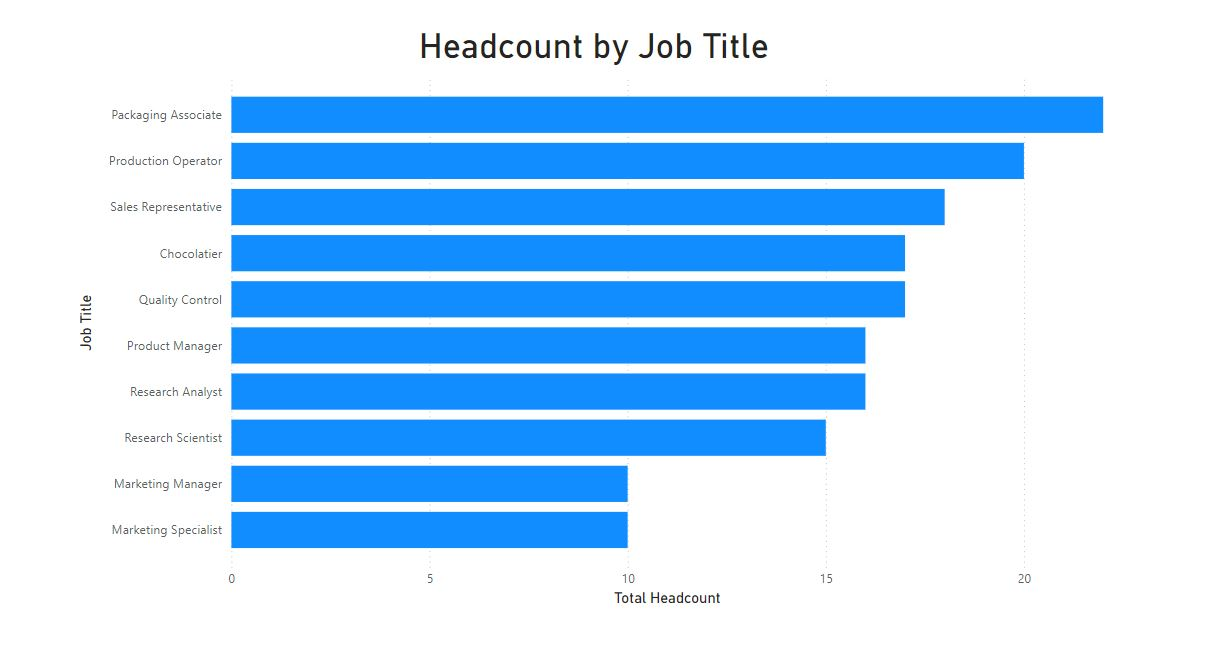

The dashboard page shown, as its layout file describes it:
{"tool":"powerbi","page":{"name":"Q1","canvas":[1280,720],"ordinal":0},"visuals":[{"type":"clusteredBarChart","title":"Headcount by Job Title","fields":{"Y":["staff.Total Headcount"],"Category":["staff.Job Title"]},"box":[135.8,76.8,1007.2,565.4],"z":0}]}

Visuals, with their boxes on the page's 1280x720 design canvas (x1, y1, x2, y2). These are canvas units, not pixel positions in the 1225x657 screenshot, which may show the page scaled, cropped or inside an application window:
"Headcount by Job Title" clusteredBarChart: 136/77/1143/642
